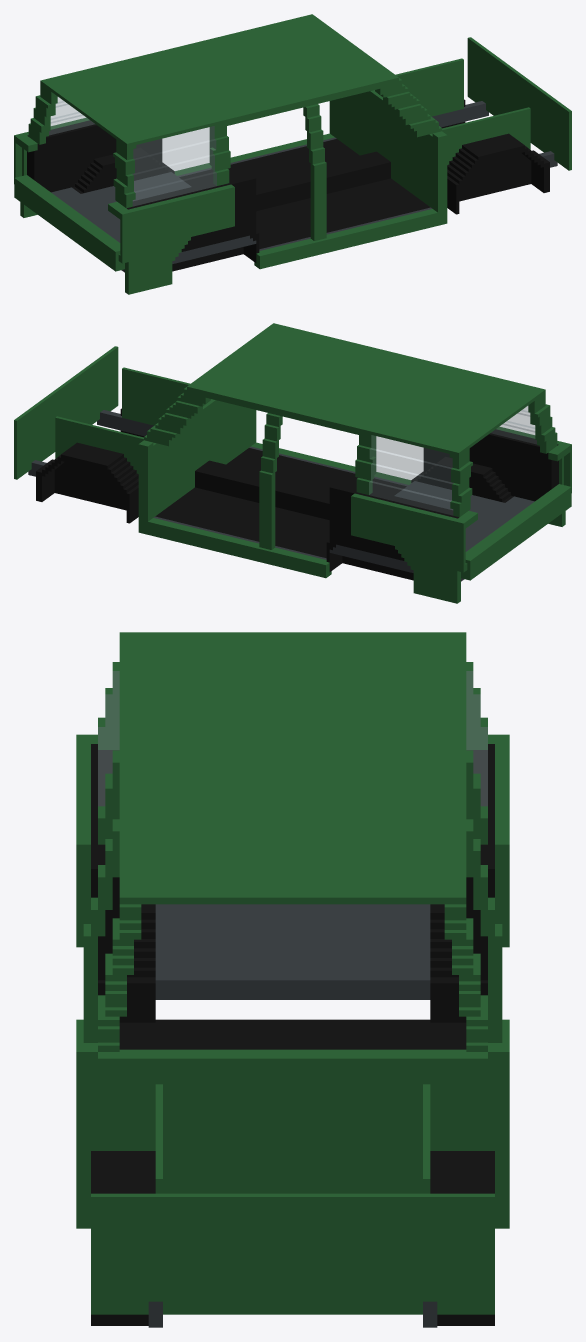
Rendered from suv_shell.glb.
3 views of the same model, one above another, from view 1: azimuth 30°, elevation 25°; view 2: azimuth 150°, elevation 25°; view 3: azimuth 270°, elevation 25° (orthographic). The views are drawn at different scales.
Visible parts, largest first — view 1: body:compound; view 2: body:compound; view 3: body:compound.
Part boxes in pixels (x1,y1,x2,y2): body:compound: (14, 14, 571, 294); body:compound: (14, 323, 571, 603); body:compound: (76, 632, 509, 1327).
Bounding box in the file's own units: 4.56 × 1.41 × 1.88.
